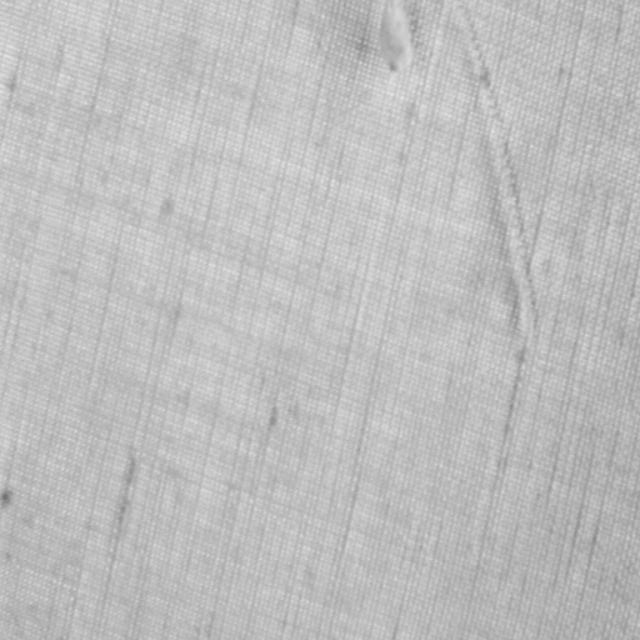objects: (446, 0, 536, 338), (370, 0, 419, 72)
